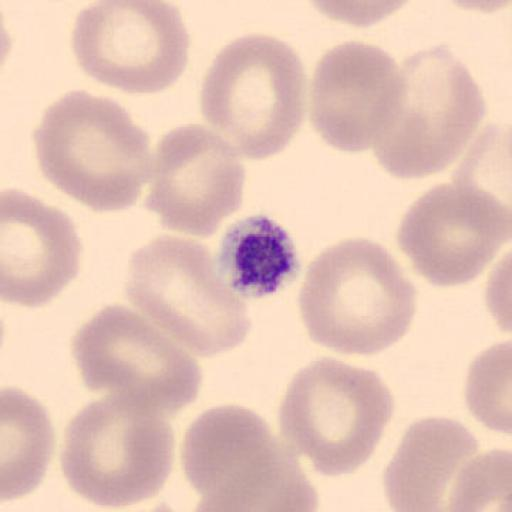Platelet: (217, 212, 304, 300)
RBC: (121, 231, 252, 360), (70, 302, 204, 422), (32, 88, 156, 215), (370, 44, 486, 179), (296, 235, 418, 359), (277, 354, 396, 478), (58, 388, 176, 510), (178, 403, 311, 511), (199, 31, 309, 161), (143, 121, 247, 240), (396, 182, 510, 288), (68, 0, 192, 96), (309, 40, 408, 154), (1, 187, 84, 309), (381, 414, 480, 512), (189, 457, 320, 512), (451, 121, 512, 233), (2, 385, 56, 504), (463, 336, 512, 436), (443, 447, 512, 512), (188, 475, 302, 512), (298, 0, 420, 28), (188, 481, 270, 512), (485, 249, 512, 338), (188, 486, 253, 512), (436, 0, 512, 12), (117, 500, 189, 512)
